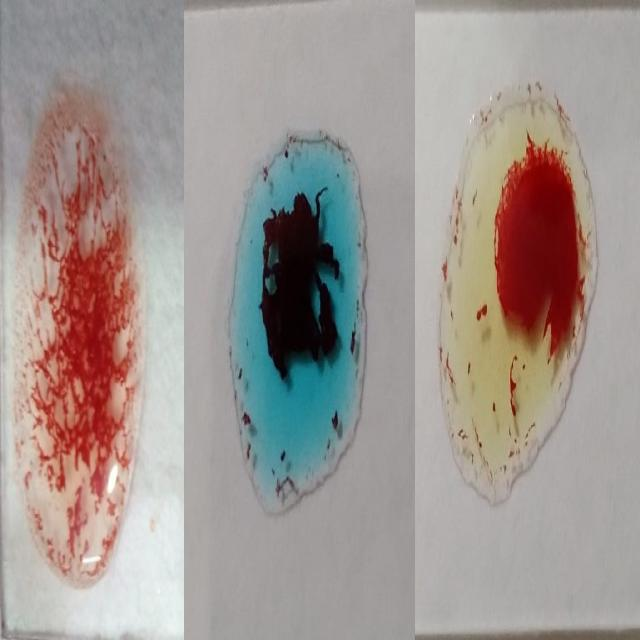A: (230, 136, 374, 512)
B: (441, 102, 595, 490)
D: (21, 99, 143, 580)
